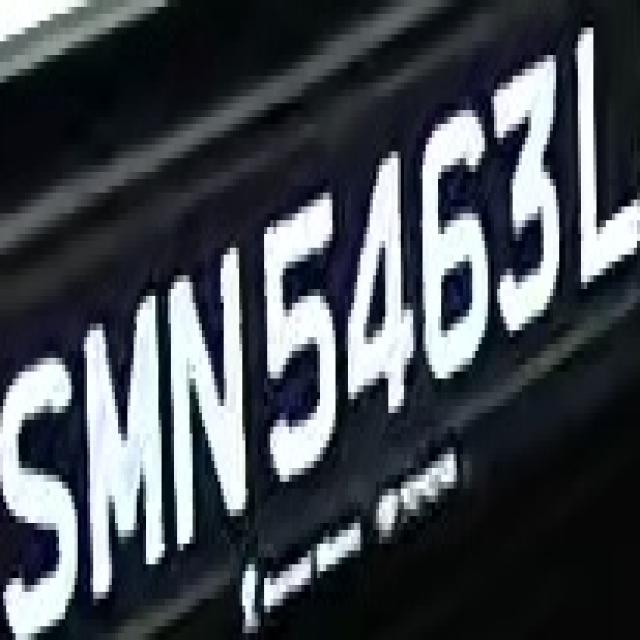3: (491, 34, 562, 365)
4: (329, 117, 416, 447)
5: (254, 192, 338, 496)
6: (410, 96, 497, 372)
L: (568, 20, 640, 309)
M: (72, 289, 177, 613)
N: (158, 213, 261, 558)
S: (3, 296, 75, 640)
